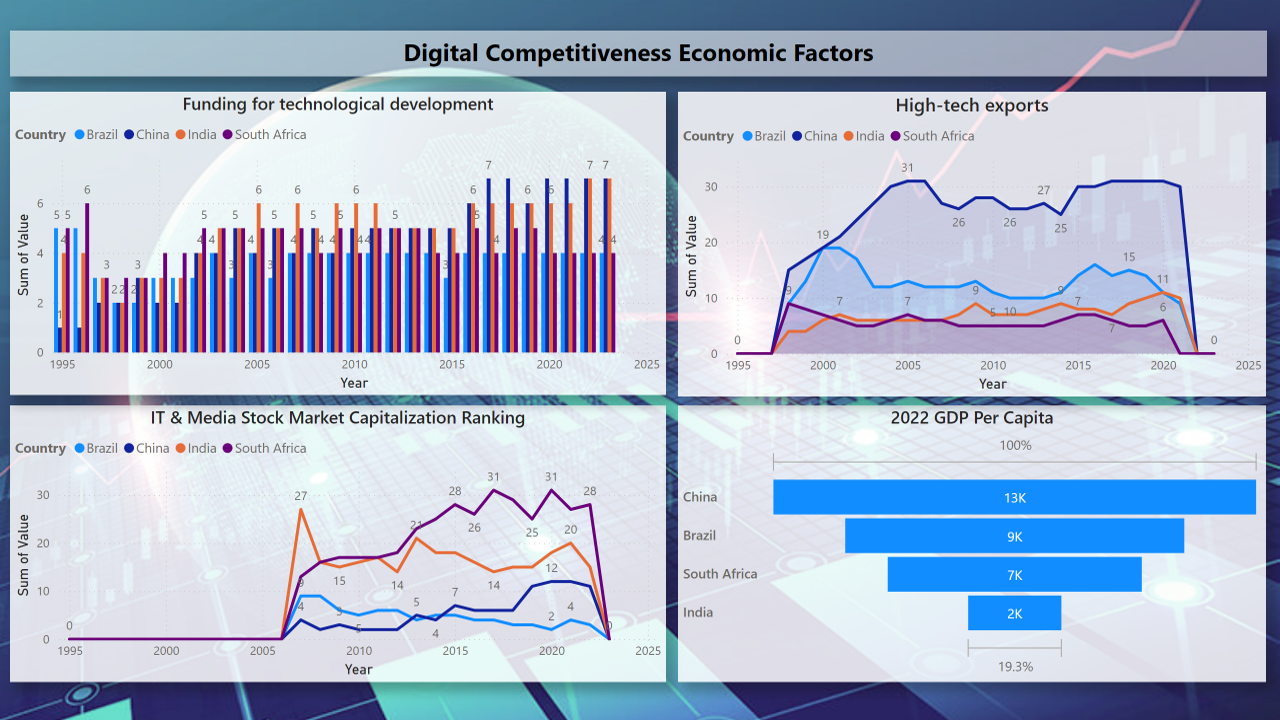

The dashboard page shown, as its layout file describes it:
{"tool":"powerbi","page":{"name":"Econmic","canvas":[1280,720],"ordinal":0},"visuals":[{"type":"lineChart","title":"IT & Media Stock Market Capitalization  Ranking","fields":{"Category":["Values_Result.Year"],"Y":["Sum(Values_Result.Value)"],"Series":["Values_Result.Country"]},"box":[9.5,411.1,655.8,280.4],"z":0},{"type":"textbox","box":[9.5,30.9,1257,46.3],"z":1000},{"type":"funnel","title":"2022 GDP Per Capita","fields":{"Category":["Values_Result.Country"],"Y":["Sum(Values_Result.Value)"]},"box":[678.4,411.1,588.1,280.4],"z":2000},{"type":"clusteredColumnChart","title":"Funding for technological development","fields":{"Category":["Values_Result.Year"],"Y":["Sum(Values_Result.Value)"],"Series":["Values_Result.Country"]},"box":[9.5,92.7,655.8,307.7],"z":3000},{"type":"areaChart","title":"High-tech exports","fields":{"Category":["Values_Result.Year"],"Y":["Sum(Values_Result.Value)"],"Series":["Values_Result.Country"]},"box":[678.4,92.7,588.1,308.9],"z":4000}]}

Visuals, with their boxes in screenshot pixels (x1, y1, x2, y2), scaled from the page's 1280x720 canvas onto the 1280x720 screenshot:
"IT & Media Stock Market Capitalization  Ranking" lineChart: Rect(10, 411, 665, 692)
textbox: Rect(10, 31, 1266, 77)
"2022 GDP Per Capita" funnel: Rect(678, 411, 1266, 692)
"Funding for technological development" clusteredColumnChart: Rect(10, 93, 665, 400)
"High-tech exports" areaChart: Rect(678, 93, 1266, 402)
